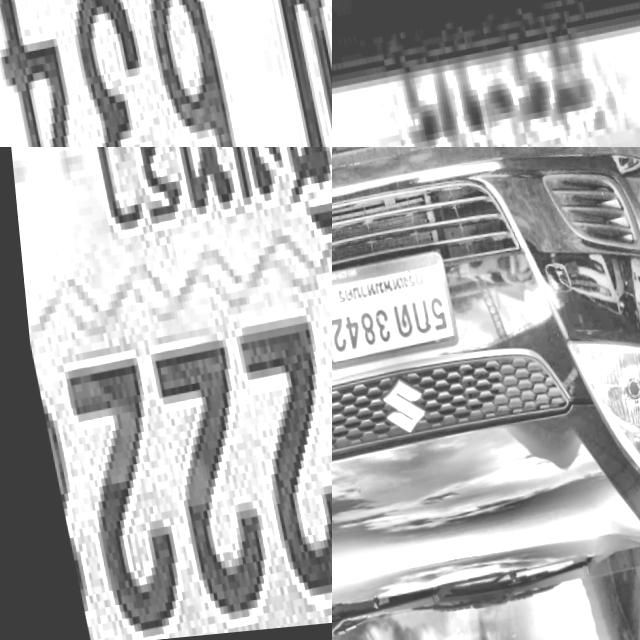license-plate: (0, 147, 332, 640), (0, 0, 332, 147), (332, 0, 640, 147), (332, 252, 457, 378)
